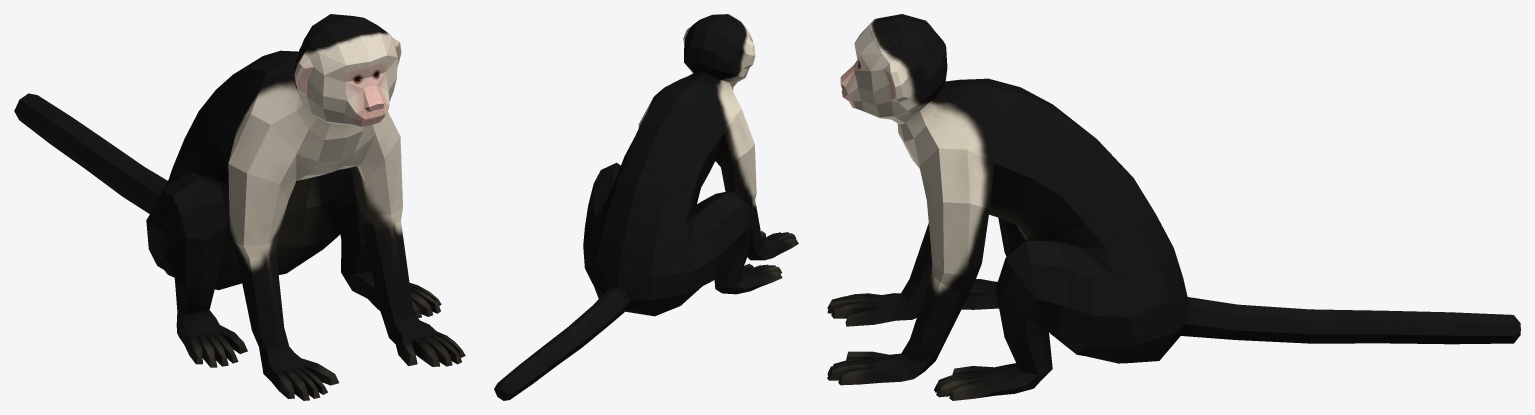
Rendered from kai.glb.
3 views of the same model, side by side, from view 1: azimuth 30°, elevation 25°; view 2: azimuth 150°, elevation 25°; view 3: azimuth 270°, elevation 25° (orthographic). The views are drawn at different scales.
Visible parts, largest first — view 1: CapuchinMonkey_Mesh; view 2: CapuchinMonkey_Mesh; view 3: CapuchinMonkey_Mesh.
Boxes of the visible parts, x1,y1,x2,y2 form: CapuchinMonkey_Mesh: [14, 14, 465, 400]; CapuchinMonkey_Mesh: [494, 14, 798, 400]; CapuchinMonkey_Mesh: [827, 14, 1520, 400].
Size of the model in its own units: 3.52 by 4.63 by 8.91.
1 material, 1 textured.
